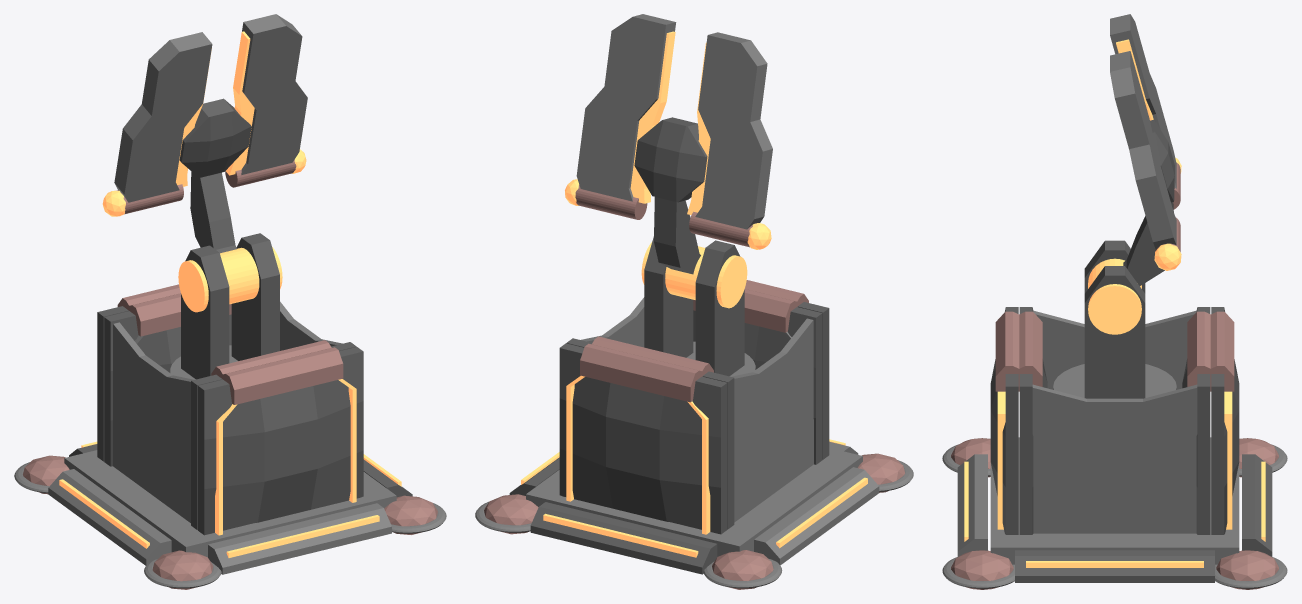
The model's file is Gerät (Modus Beschützen).fbx.
3 renders of one model, left to right at view 1: azimuth 30°, elevation 25°; view 2: azimuth 150°, elevation 25°; view 3: azimuth 270°, elevation 25°, orthographic. The views are drawn at different scales.
Parts seen in each view (by area): view 1: Torus.004; view 2: Torus.004; view 3: Torus.004.
Boxes of the visible parts, box(x1,y1,x2,y2) form: Torus.004: box(14, 14, 446, 589); Torus.004: box(475, 14, 913, 589); Torus.004: box(942, 14, 1287, 589).
Bounding box in the file's own units: 832 × 1301 × 832.
